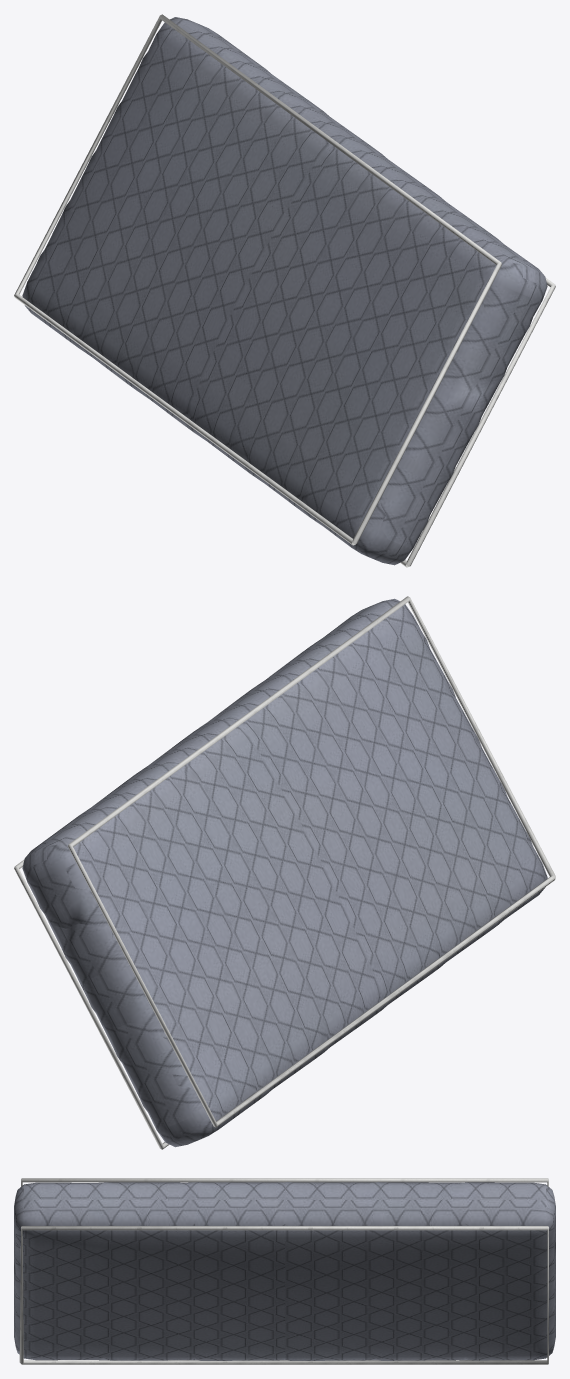
File: BC2_MATTRESS01.glb
3 renders of one model, top to bottom at view 1: azimuth 30°, elevation 25°; view 2: azimuth 150°, elevation 25°; view 3: azimuth 270°, elevation 25°, orthographic. The views are drawn at different scales.
Visible parts, largest first — view 1: BC2_MATTRESS01_ticking, BC2_MATTRESS01_piping; view 2: BC2_MATTRESS01_ticking, BC2_MATTRESS01_piping; view 3: BC2_MATTRESS01_ticking, BC2_MATTRESS01_piping.
Part boxes in pixels (box(x1,y1,x2,y2)): BC2_MATTRESS01_ticking: box(22, 17, 547, 565); BC2_MATTRESS01_piping: box(14, 14, 555, 567); BC2_MATTRESS01_ticking: box(22, 598, 547, 1147); BC2_MATTRESS01_piping: box(14, 596, 555, 1149); BC2_MATTRESS01_ticking: box(14, 1182, 555, 1360); BC2_MATTRESS01_piping: box(19, 1178, 548, 1364).
Bounding box in the file's own units: 0.6429 × 0.8516 × 1.9.
Materials: 2 (2 with a texture image).
